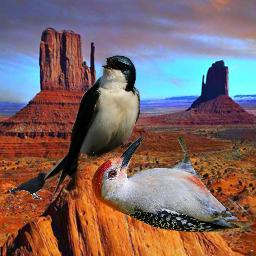Crow: (9, 172, 47, 200)
Swallow: (44, 55, 140, 199)
Woodpecker: (92, 137, 251, 233)
